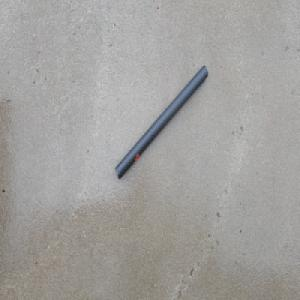LuggagePart: (114, 64, 208, 181)
